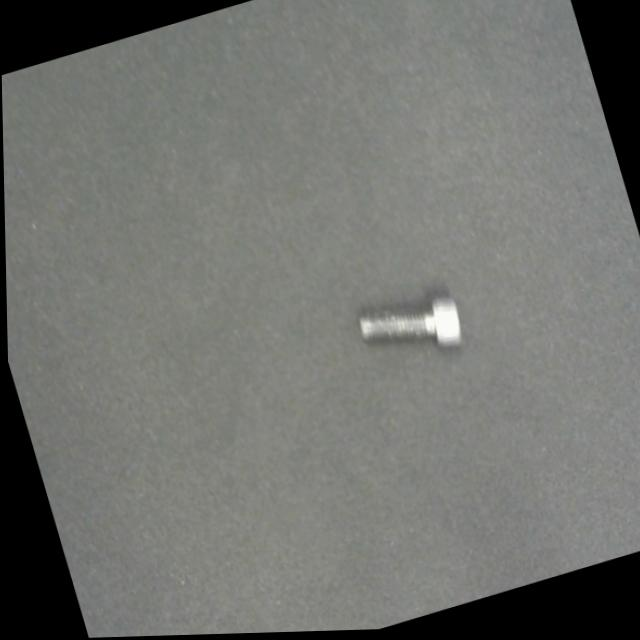SocketHeadCapScrew: (352, 286, 468, 376)
